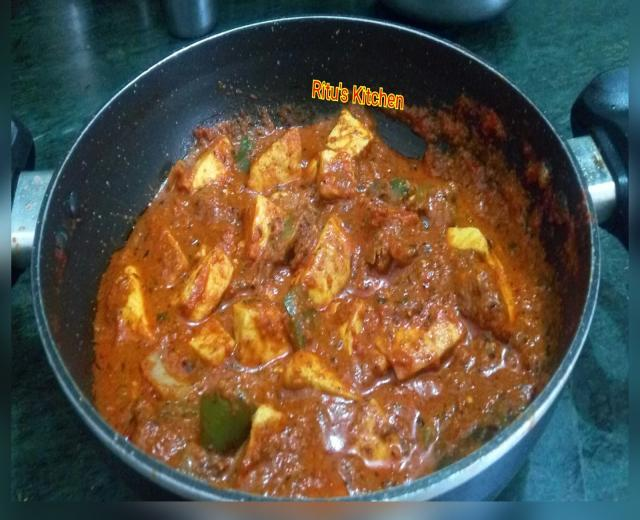kadai paneer: (24, 12, 600, 499), (8, 3, 622, 139), (12, 289, 119, 500), (12, 109, 136, 276), (164, 1, 512, 38), (11, 5, 120, 123), (571, 65, 629, 253), (11, 171, 55, 278), (158, 0, 218, 40), (10, 277, 40, 356), (10, 113, 36, 204)
